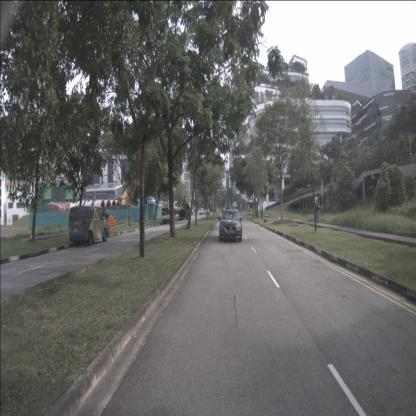human-pedestrian-adult: (315, 199, 320, 223)
vehicle-car: (68, 206, 110, 246), (219, 209, 242, 242), (205, 208, 211, 216), (199, 208, 203, 216)
vehicle-truck: (157, 200, 179, 217), (177, 200, 191, 220), (161, 208, 175, 223), (233, 202, 238, 216)
